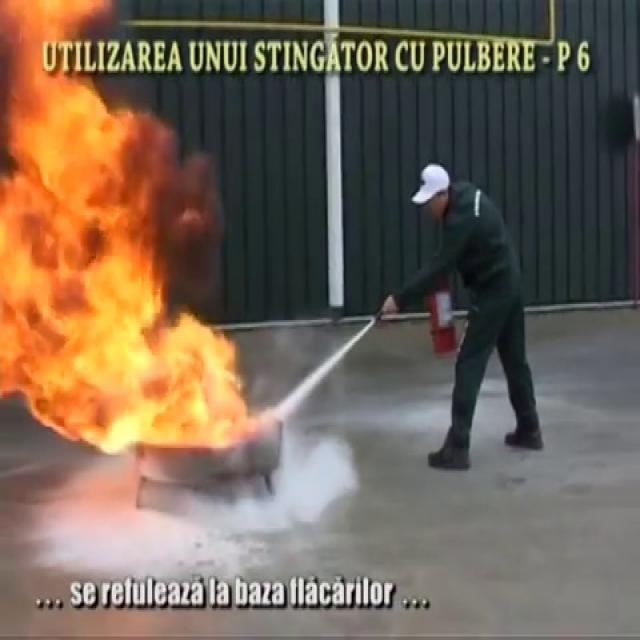Fire: (0, 0, 266, 462)
